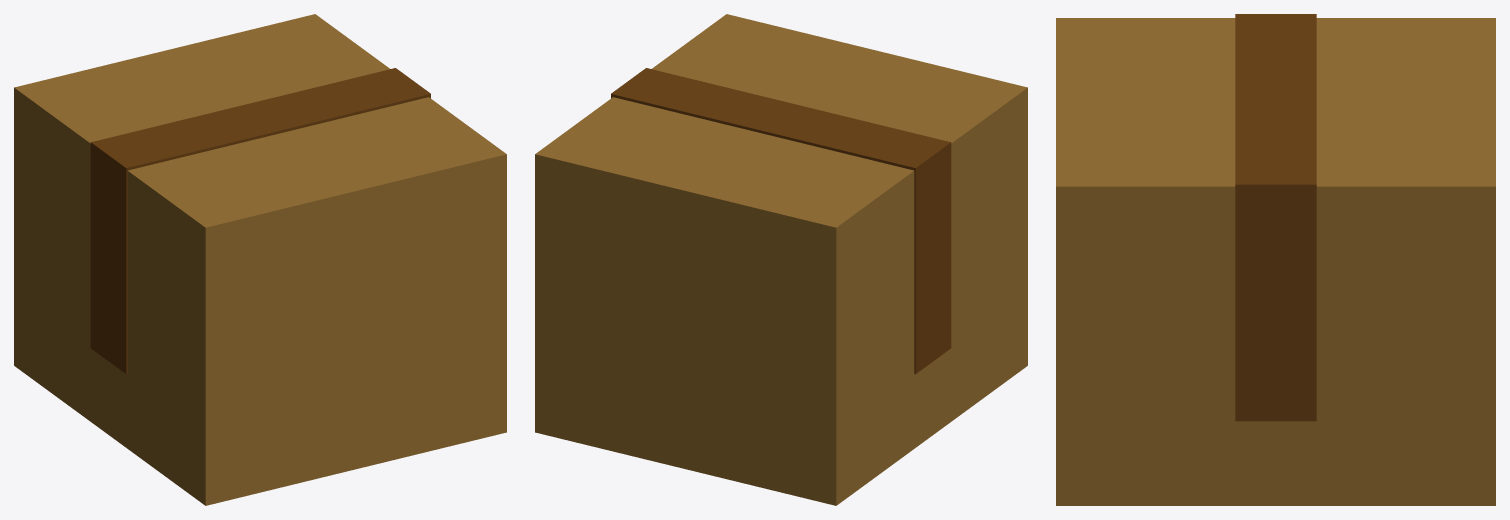
The model's file is BoxClosedShort.fbx.
3 views of the same model, side by side, from view 1: azimuth 30°, elevation 25°; view 2: azimuth 150°, elevation 25°; view 3: azimuth 270°, elevation 25° (orthographic). The views are drawn at different scales.
Visible parts, largest first — view 1: Куб, Куб.001, Куб.002; view 2: Куб, Куб.001, Куб.002; view 3: Куб, Куб.003, Куб.001.
Boxes of the visible parts, left/top/right/bottom form: Куб: left=14, top=14, right=506, bottom=505; Куб.001: left=97, top=69, right=425, bottom=170; Куб.002: left=90, top=141, right=131, bottom=374; Куб: left=535, top=14, right=1027, bottom=505; Куб.001: left=616, top=69, right=944, bottom=170; Куб.002: left=910, top=141, right=951, bottom=374; Куб: left=1056, top=18, right=1495, bottom=505; Куб.003: left=1235, top=181, right=1316, bottom=421; Куб.001: left=1235, top=17, right=1316, bottom=181.
Size of the model in its own units: 111 by 97.8 by 121.
